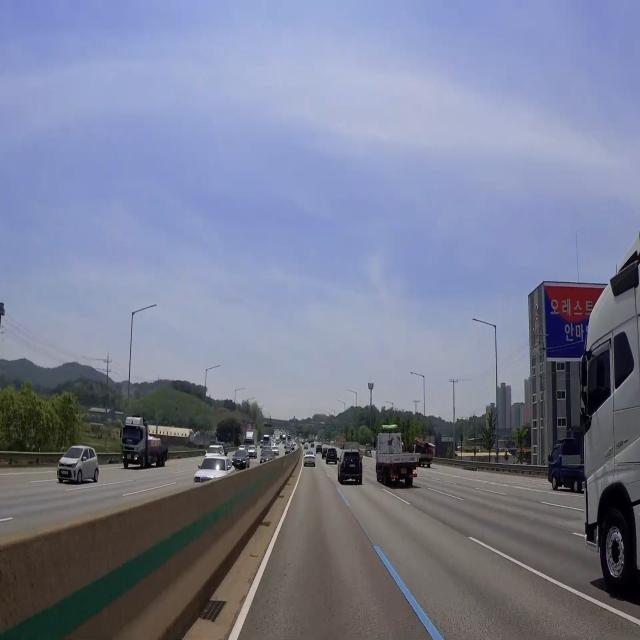car: (399, 467, 409, 475), (60, 469, 69, 477), (126, 452, 132, 462), (348, 464, 357, 468), (307, 460, 312, 464), (330, 454, 334, 457)
